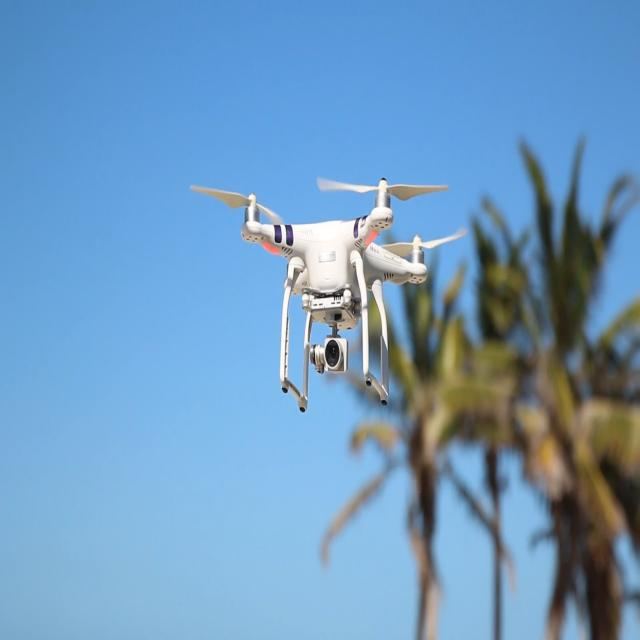Drone: (183, 146, 466, 417)
